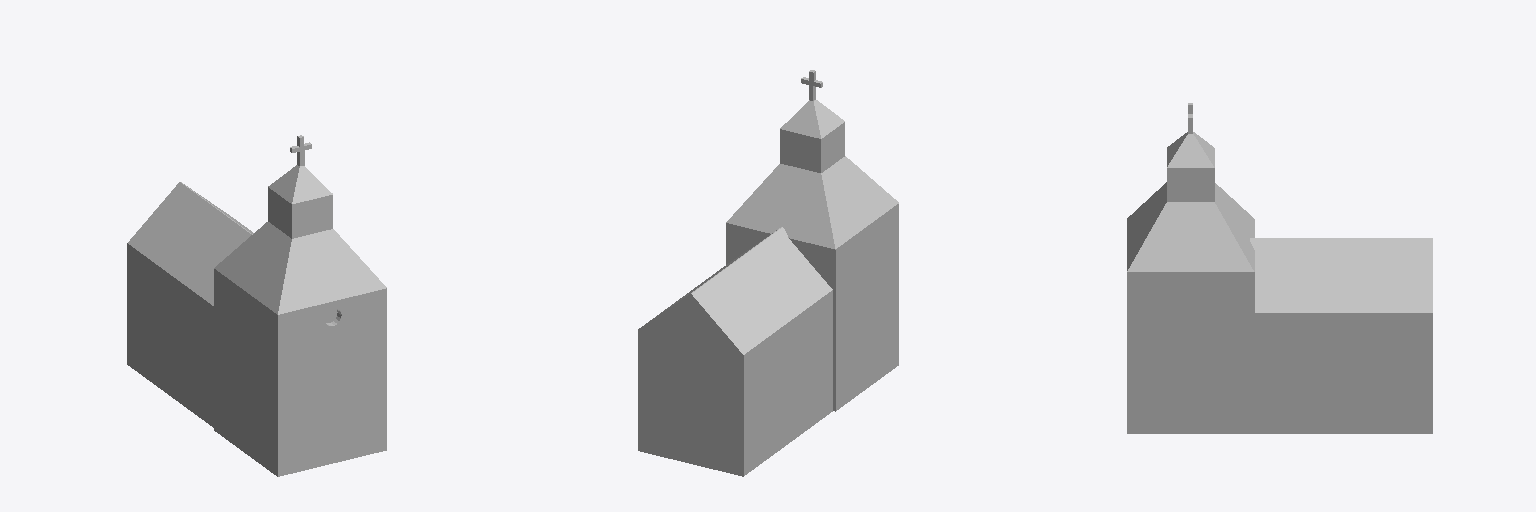
The model's file is Church.obj.
The picture shows the model from 3 angles: view 1: azimuth 30°, elevation 25°; view 2: azimuth 150°, elevation 25°; view 3: azimuth 270°, elevation 25°; orthographic projection.
Visible parts, largest first — view 1: Cylinder001, Box002; view 2: Box002, Cylinder001; view 3: Box002, Cylinder001.
Part boxes in pixels (x1,y1,x2,y2): Cylinder001: (214,165,386,476); Box002: (127,182,253,427); Box002: (638,227,832,476); Cylinder001: (726,100,898,411); Box002: (1250,238,1432,433); Cylinder001: (1127,132,1254,433).
Bounding box in the file's own units: 24.72 × 65.51 × 59.79.